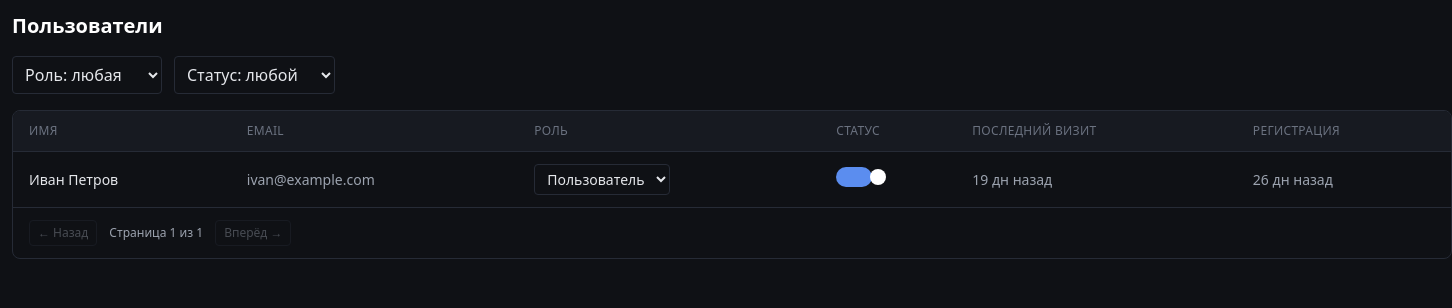
Test case: UsersPage › should_show_error_message_when_update_forbidden
Expected: the text "Иван Петров" is shown, [13,152,231,207]
Click the switch at (854, 177), box [836,167,872,187]
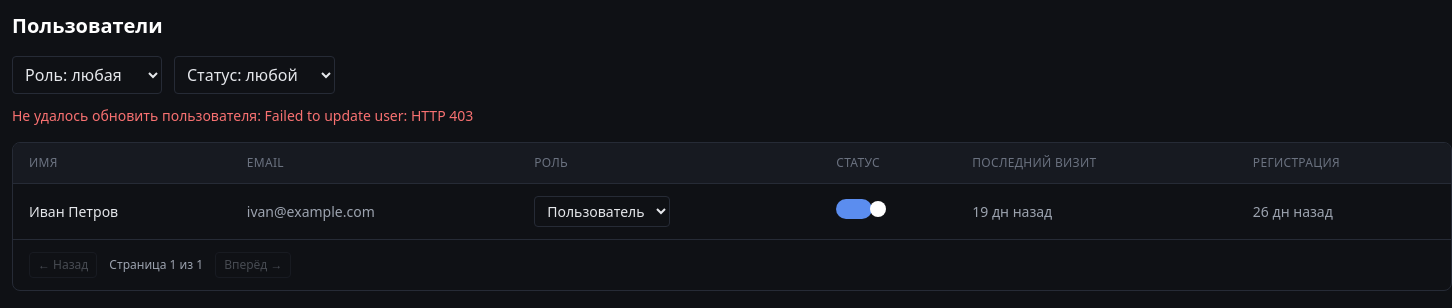
Expected: the text "Не удалось обновить пользователя" is shown, [12,106,264,125]
